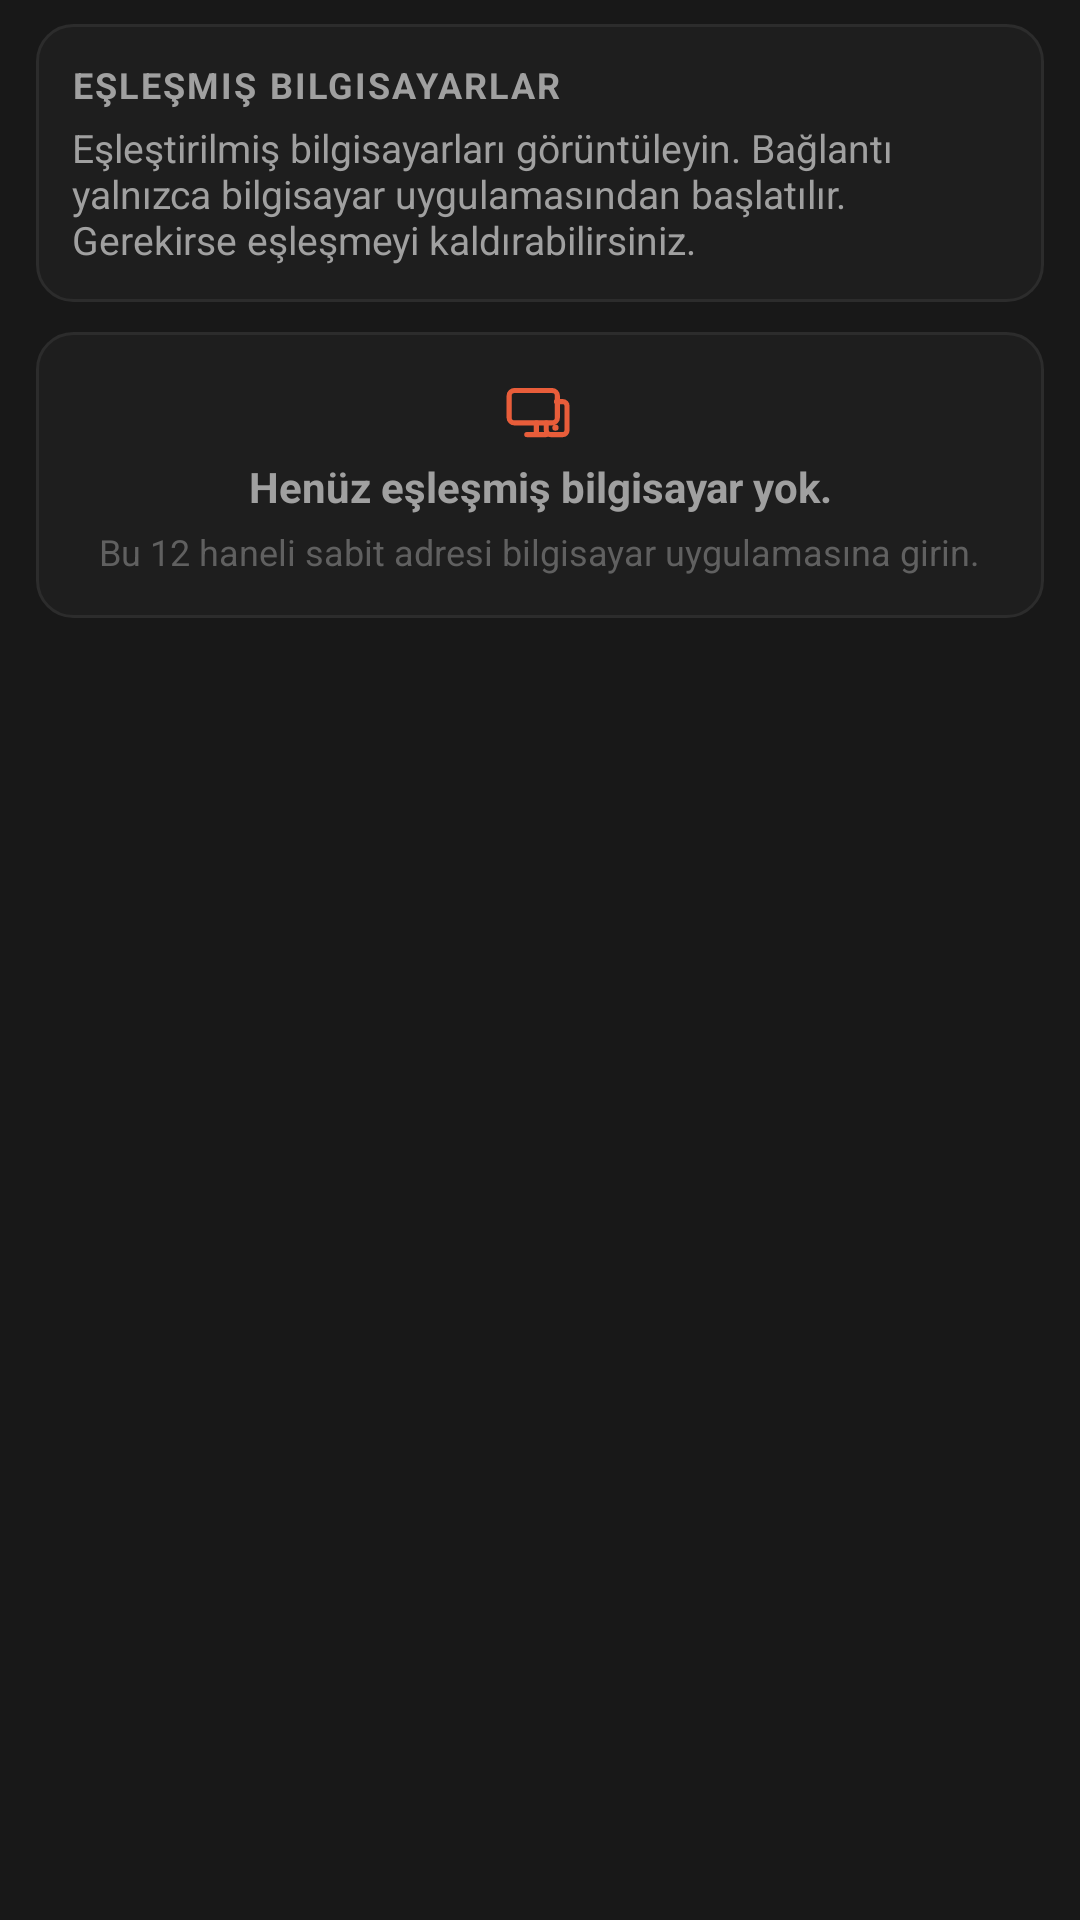

Where to tap for icons on this 1080 × 1920 app screen, as (x,y):
Cihazlar: (538,413)
